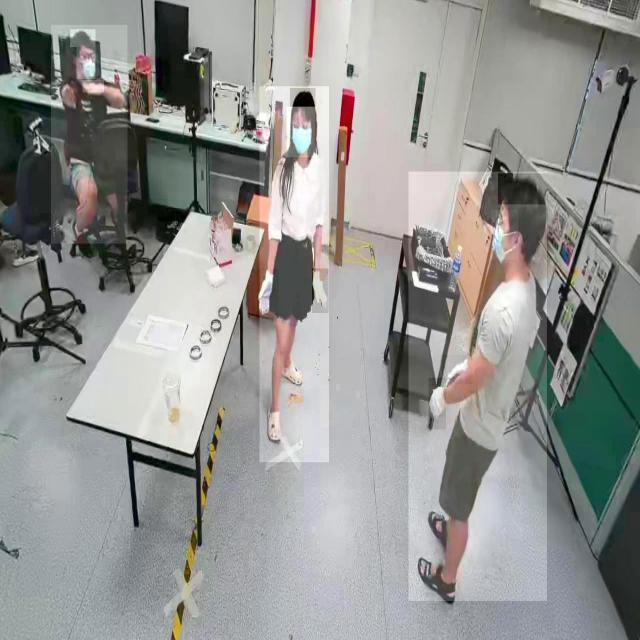gloves: (257, 268, 279, 320), (428, 378, 446, 430), (442, 354, 472, 384), (312, 268, 329, 314)
